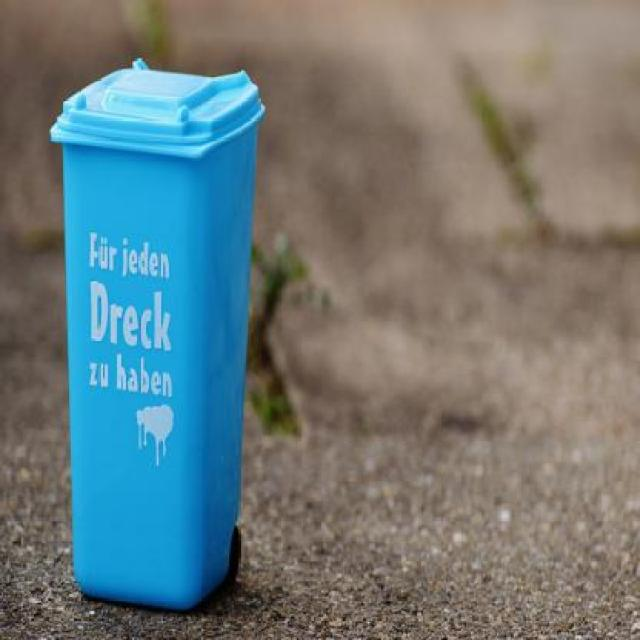garbage container: (38, 48, 280, 618)
